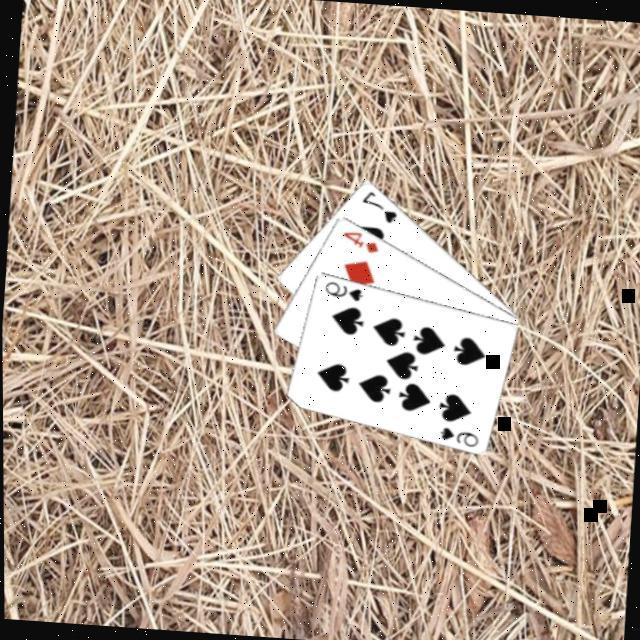4D: (338, 225, 382, 254)
7S: (357, 184, 402, 225)
9S: (321, 275, 367, 302), (436, 421, 482, 448)
